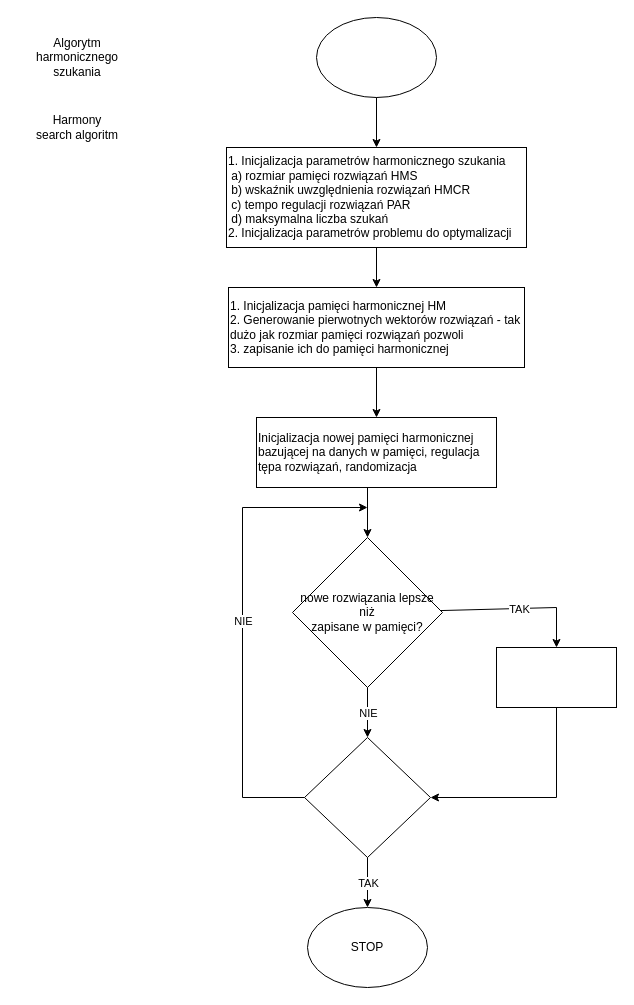
Some shapes in this 634 by 1005 pixel diagram are drawn without their labels. The centre of each missing label's shape, as x and y in pixels:
"aktualizacja pamięci rozwiązań" goes at (x=556, y=677).
"Pamieć rozwiązań wyczerpana" goes at (x=367, y=797).
"START" goes at (x=376, y=57).
